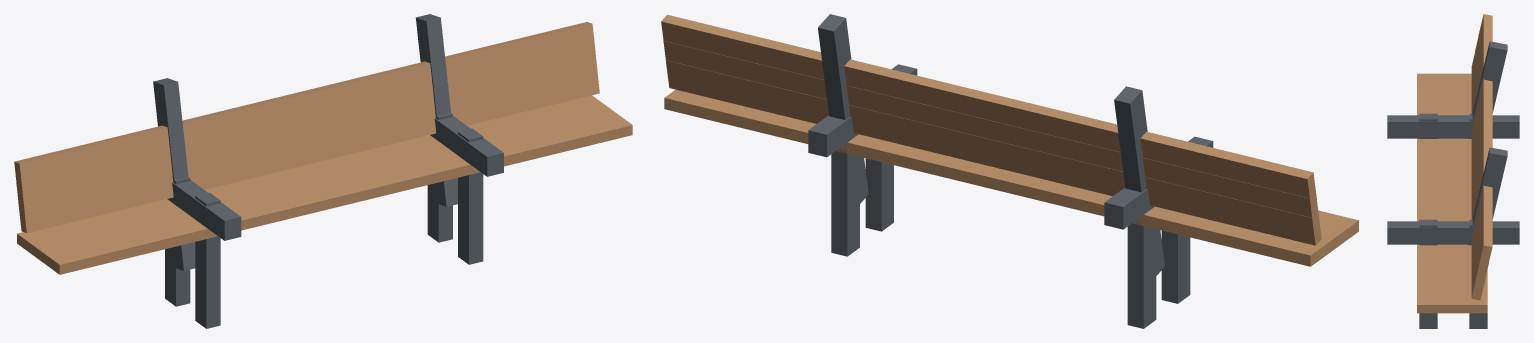
File: bench.glb
3 views of the same model, side by side, from view 1: azimuth 30°, elevation 25°; view 2: azimuth 150°, elevation 25°; view 3: azimuth 270°, elevation 25° (orthographic). The views are drawn at different scales.
Parts seen in each view (by area): view 1: Cube.014, Cube.013, Cube.012, Cube.008, Cube.009, Cube.010, Cube.011, Cube.007, Cube.003, Cube.004, Cube, Cube.002 (+3 smaller); view 2: Cube.014, Cube.012, Cube.011, Cube.013, Cube.007, Cube.003, Cube.001, Cube.005, Cube, Cube.004, Cube.002, Cube.006 (+2 smaller); view 3: Cube.008, Cube.009, Cube.010, Cube.014, Cube.002, Cube.006, Cube.011, Cube.007, Cube.003, Cube.012, Cube.013, Cube.004 (+2 smaller).
Boxes of the visible parts, x1,y1,x2,y2 form: Cube.014: [14, 22, 595, 192]; Cube.013: [16, 53, 597, 212]; Cube.012: [18, 73, 599, 232]; Cube.008: [46, 115, 632, 274]; Cube.009: [36, 108, 622, 267]; Cube.010: [26, 101, 611, 257]; Cube.011: [17, 95, 602, 250]; Cube.007: [415, 14, 457, 206]; Cube.003: [153, 78, 195, 270]; Cube.004: [458, 128, 483, 264]; Cube: [195, 192, 220, 328]; Cube.002: [167, 180, 241, 240]; Cube.014: [661, 14, 1316, 206]; Cube.012: [665, 60, 1321, 245]; Cube.011: [664, 90, 1325, 266]; Cube.013: [663, 40, 1319, 224]; Cube.007: [818, 14, 868, 206]; Cube.003: [1114, 86, 1164, 275]; Cube.001: [1127, 215, 1156, 328]; Cube.005: [831, 146, 859, 256]; Cube: [1161, 230, 1190, 303]; Cube.004: [865, 158, 893, 231]; Cube.002: [1104, 136, 1213, 229]; Cube.006: [808, 64, 917, 157]; Cube.008: [1417, 73, 1439, 313]; Cube.009: [1433, 73, 1455, 313]; Cube.010: [1449, 73, 1471, 313]; Cube.014: [1478, 14, 1492, 267]; Cube.002: [1387, 115, 1519, 138]; Cube.006: [1387, 221, 1519, 244]; Cube.011: [1465, 73, 1487, 313]; Cube.007: [1468, 147, 1507, 245]; Cube.003: [1468, 41, 1507, 138]; Cube.012: [1471, 53, 1485, 300]; Cube.013: [1475, 38, 1488, 284]; Cube.004: [1419, 219, 1437, 328].
Bounding box in the file's own units: 4.8 × 1.7 × 1.16.
